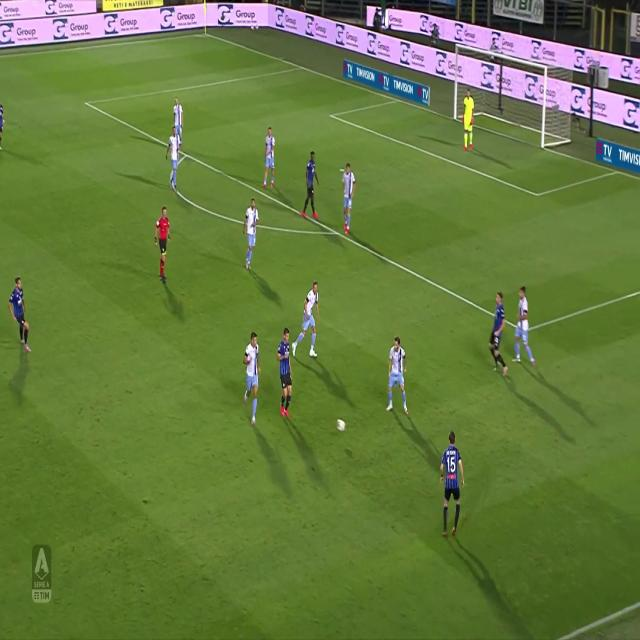ball: (334, 416, 349, 436)
team1: (439, 430, 467, 541), (488, 286, 514, 378), (273, 323, 297, 420), (6, 274, 34, 356), (302, 146, 320, 222), (1, 98, 8, 158)
team2: (296, 278, 322, 360), (389, 333, 409, 420), (244, 328, 261, 428), (516, 286, 536, 370), (164, 122, 185, 194), (241, 196, 259, 274), (170, 95, 190, 149), (341, 157, 354, 239), (264, 128, 278, 194)
